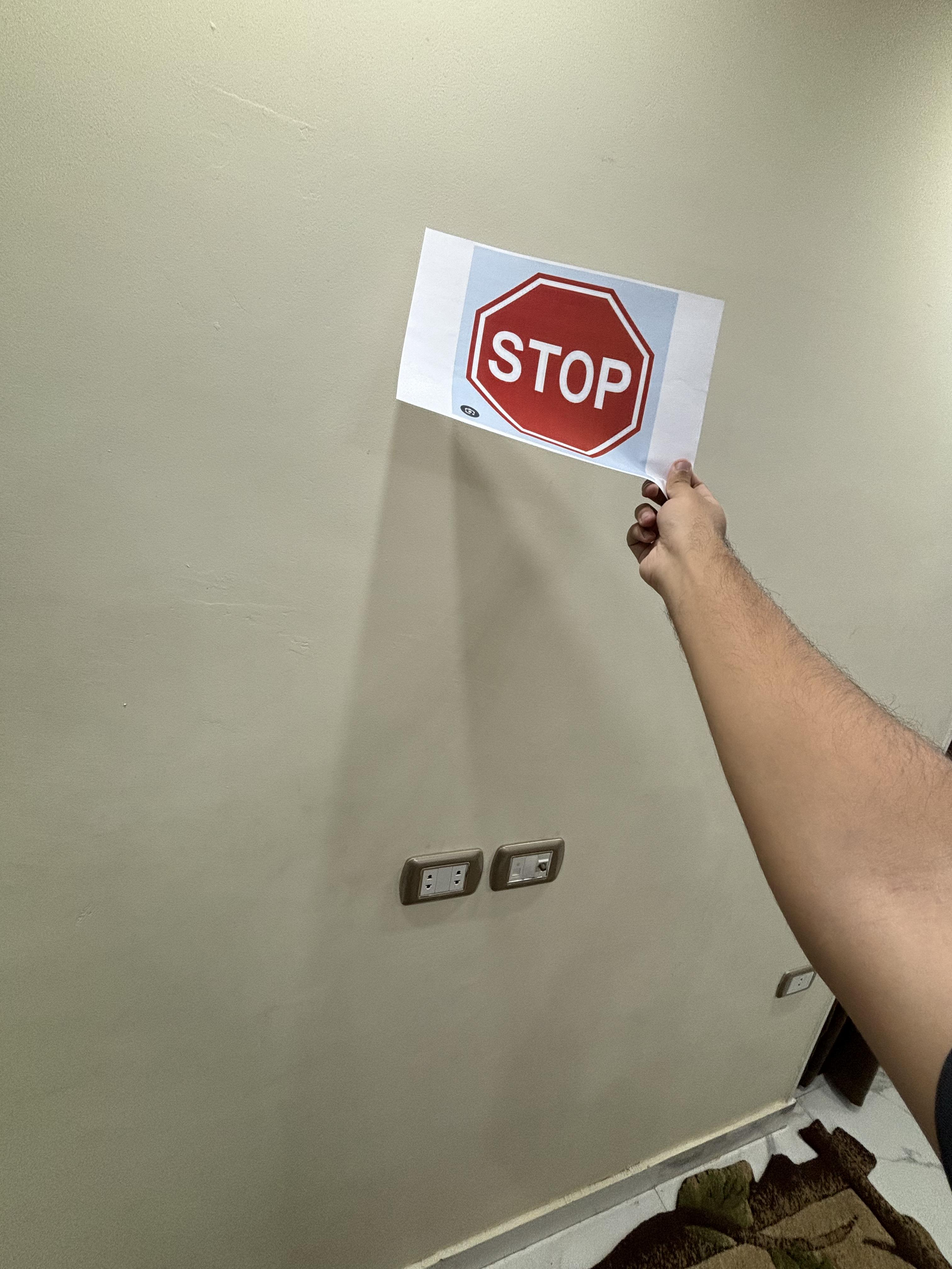Stop: (463, 271, 658, 467)
